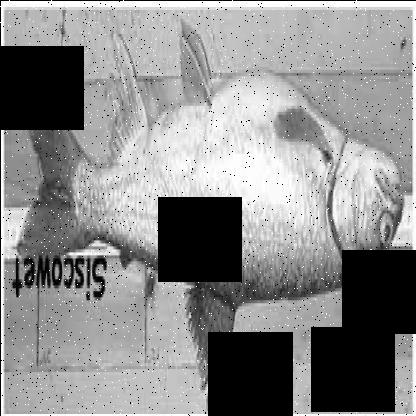fish: (18, 28, 403, 412)
